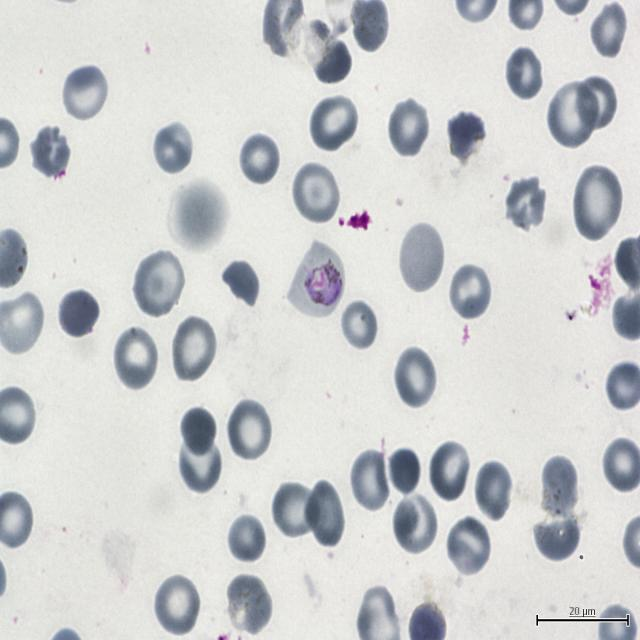red blood cell: (572, 166, 624, 241), (132, 250, 185, 320), (547, 78, 598, 148), (398, 222, 446, 294), (290, 160, 342, 226), (170, 315, 218, 385), (112, 325, 160, 392), (153, 574, 202, 638), (392, 492, 440, 556), (444, 514, 492, 578), (224, 572, 272, 636), (226, 398, 273, 463), (309, 92, 359, 153), (393, 345, 439, 410), (176, 432, 224, 494), (304, 481, 346, 550), (61, 64, 109, 124), (348, 448, 392, 513), (428, 438, 472, 503), (532, 508, 582, 564), (447, 261, 492, 322), (387, 97, 431, 158), (538, 455, 578, 520), (504, 174, 548, 233), (573, 73, 617, 132), (271, 483, 318, 538), (473, 459, 514, 522), (308, 30, 353, 86), (589, 0, 630, 61), (504, 45, 546, 101), (238, 131, 280, 187), (152, 120, 194, 176), (30, 123, 72, 179), (56, 287, 100, 340), (446, 109, 486, 164), (220, 258, 262, 309), (226, 512, 267, 564), (178, 404, 217, 458), (339, 298, 379, 350), (386, 445, 422, 499)
trophozoite: (288, 240, 346, 318)
